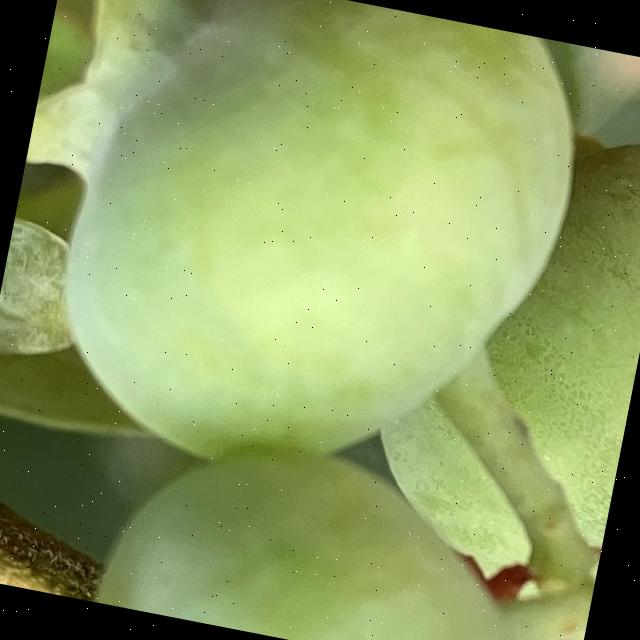Blueberries: (0, 0, 603, 519), (0, 399, 576, 640)
